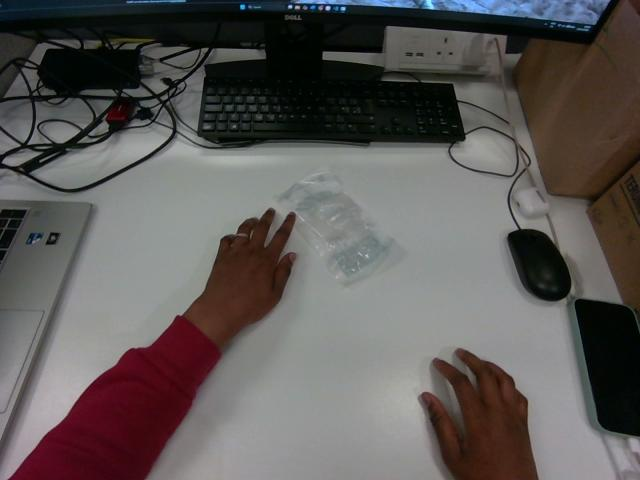gallipot: (278, 171, 393, 284)
